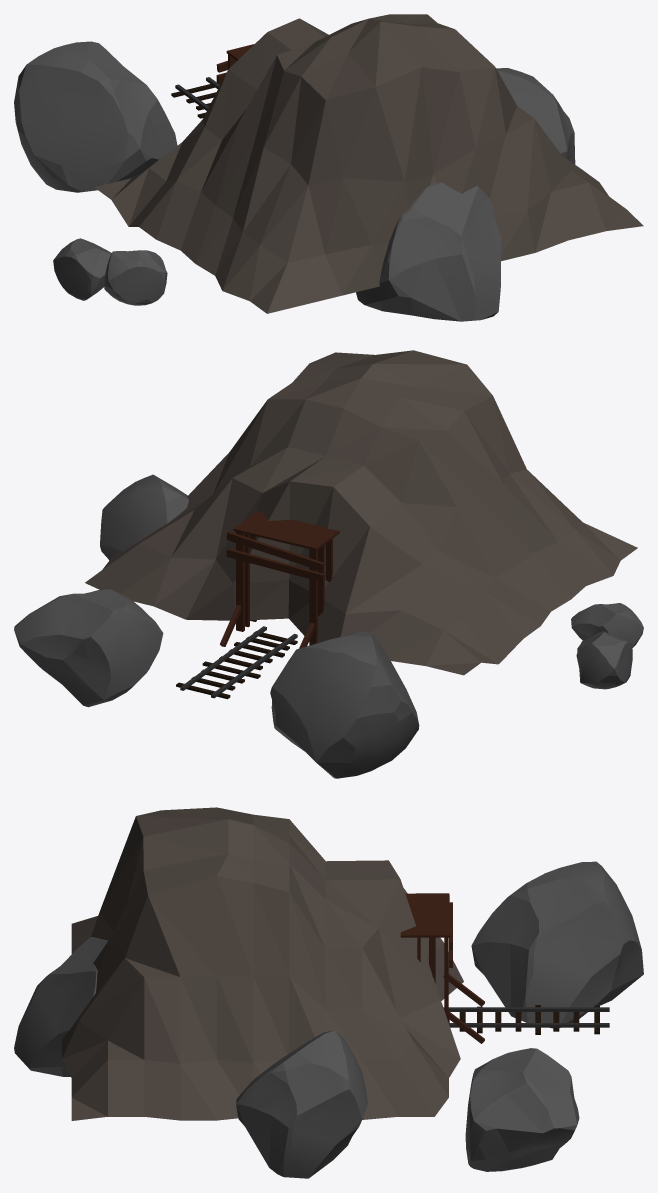
Rendered from Tile_Mine.FBX.
The picture shows the model from 3 angles, top to bottom: view 1: azimuth 30°, elevation 25°; view 2: azimuth 150°, elevation 25°; view 3: azimuth 270°, elevation 25°; orthographic projection. The views are drawn at different scales.
Visible parts, largest first — view 1: Wood; view 2: Wood; view 3: Wood.
Boxes of the visible parts, x1,y1,x2,y2 form: Wood: (14,14,643,321); Wood: (14,350,643,778); Wood: (14,807,643,1178).
Size of the model in its own units: 29.26 by 14.63 by 29.98.
